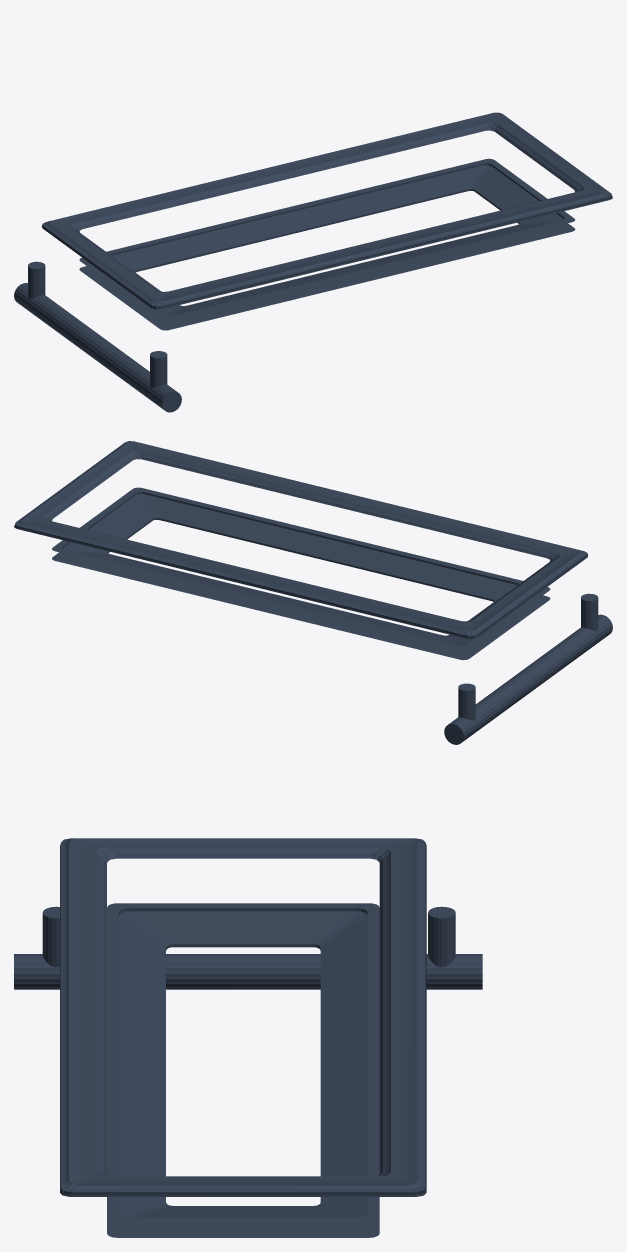
The model's file is DoormeshMicrowaveDoorC7_1_GeomSubset_1.obj.
3 views of the same model, one above another, from view 1: azimuth 30°, elevation 25°; view 2: azimuth 150°, elevation 25°; view 3: azimuth 270°, elevation 25° (orthographic). The views are drawn at different scales.
Visible parts, largest first — view 1: DoormeshMicrowaveDoorC7_1_GeomSubset_1; view 2: DoormeshMicrowaveDoorC7_1_GeomSubset_1; view 3: DoormeshMicrowaveDoorC7_1_GeomSubset_1.
Part boxes in pixels (x1,y1,x2,y2): DoormeshMicrowaveDoorC7_1_GeomSubset_1: [14, 112, 612, 412]; DoormeshMicrowaveDoorC7_1_GeomSubset_1: [14, 441, 612, 744]; DoormeshMicrowaveDoorC7_1_GeomSubset_1: [14, 838, 482, 1237].
Bounding box in the file's own units: 0.4591 × 0.2045 × 0.3222.
